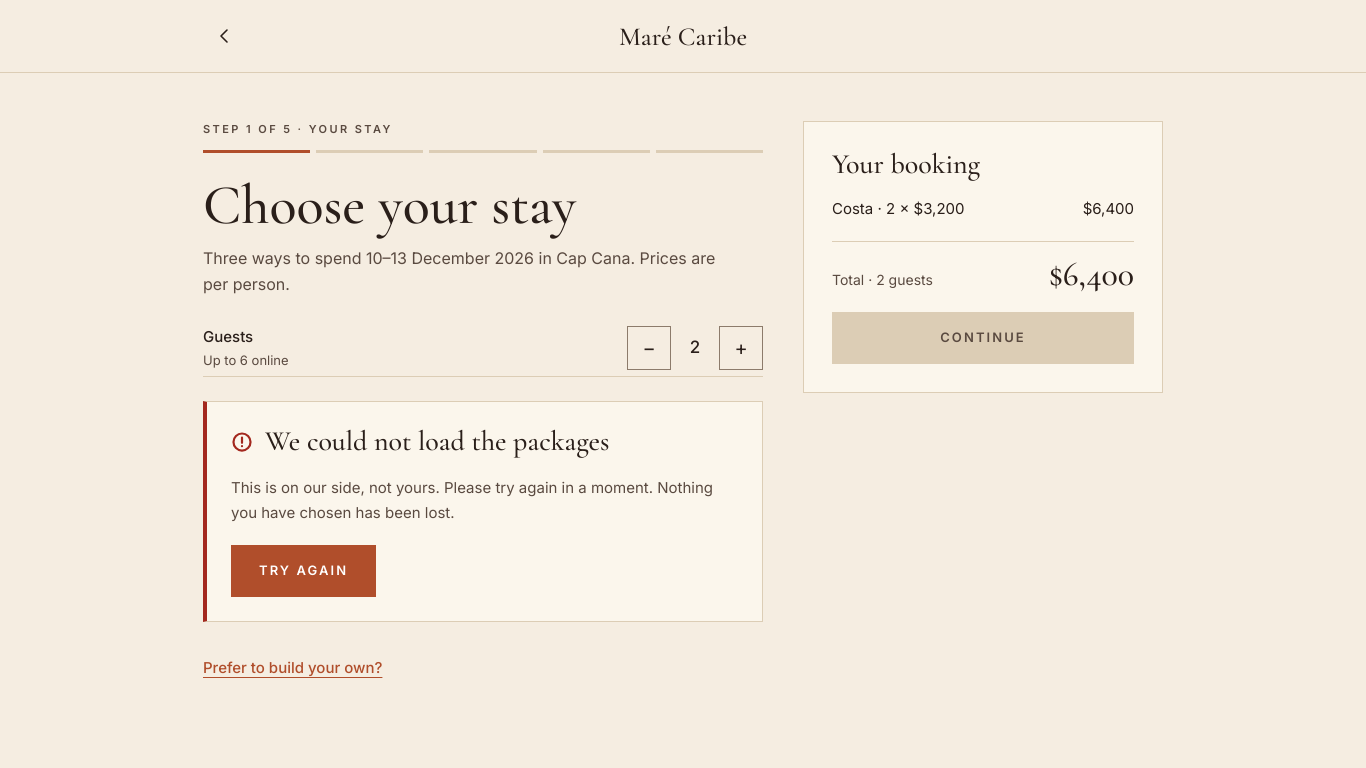
Test: Choose (step 1) › shows an error panel with retry, and recovers
The image size is (1366, 768).
Expected: the message shows "We could not load the packages", [265,424,610,458]
What coordinates should you click on to do the following:
click the button "Try again"
I would click on:
 (304, 571)
Its box is [231,545,376,597].
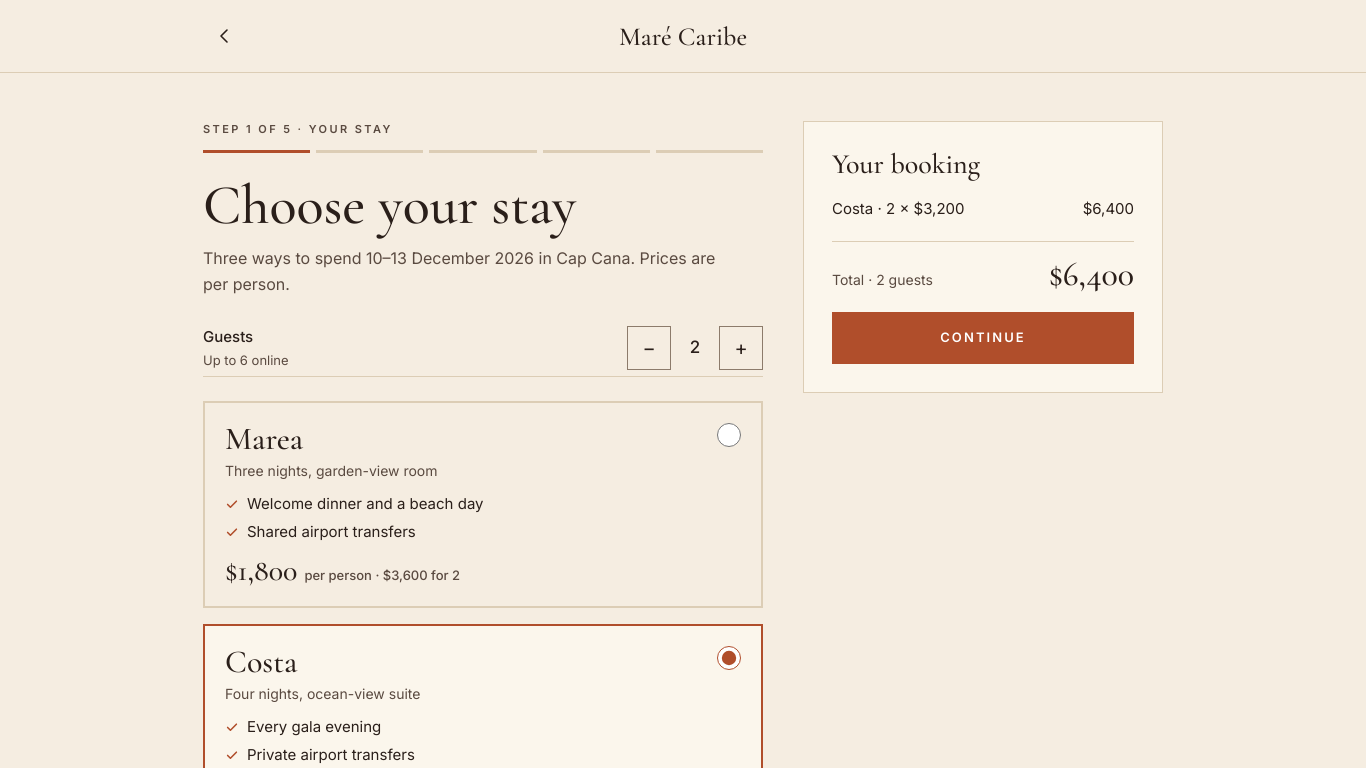
Now the text "Costa" is shown, box [225,642,297,680]
Now the message "We could not load the packages This is on our side, not yours. Please try again" is gone
